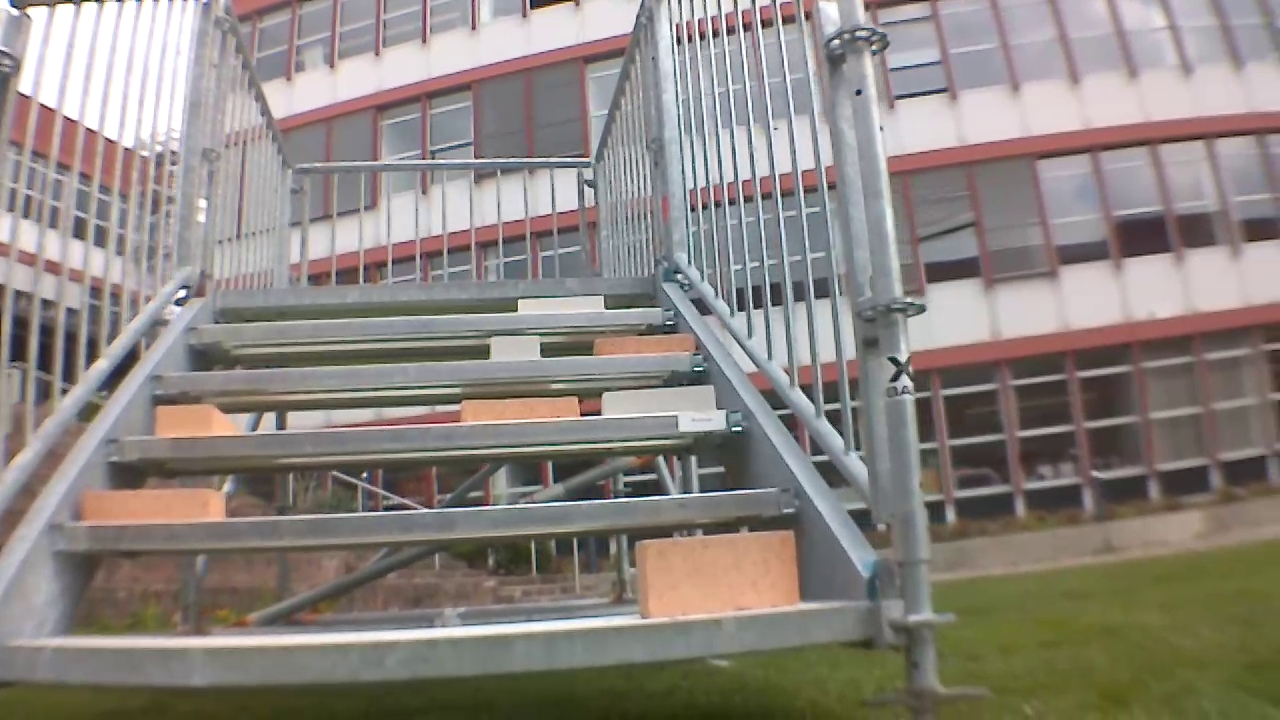brick: (630, 529, 800, 627), (73, 492, 225, 522), (600, 384, 720, 420), (459, 395, 585, 425), (153, 403, 235, 440), (587, 329, 698, 355), (482, 330, 551, 365), (513, 293, 605, 318)
edge: (0, 602, 897, 698), (46, 484, 808, 559), (111, 406, 759, 463), (147, 349, 723, 401), (181, 303, 683, 344), (211, 272, 659, 309)
stairs: (0, 0, 946, 709)
steps: (0, 262, 900, 694)
